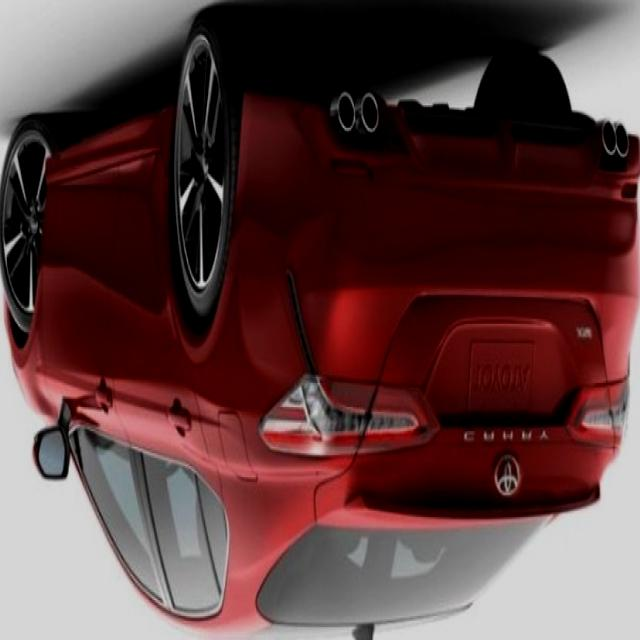red: (11, 52, 640, 637)
